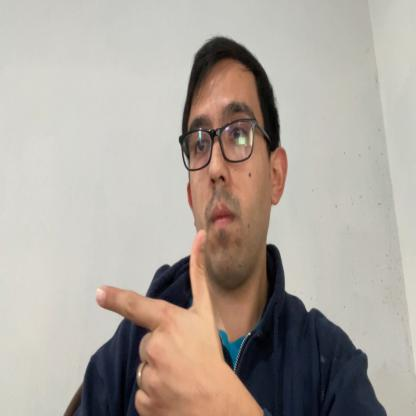G: (96, 226, 225, 416)
